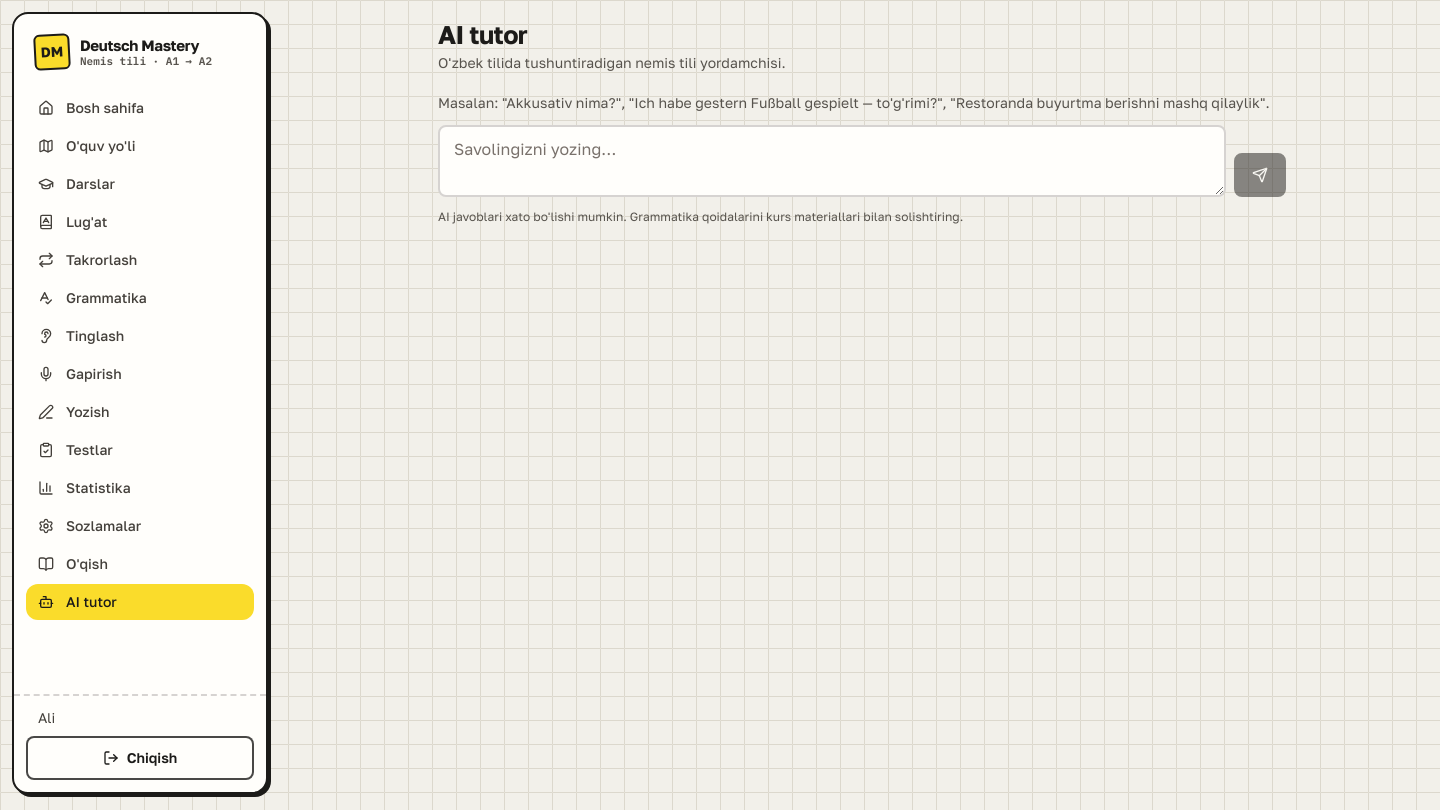
Scenario: AI tutor › renders replies as plain text, never as HTML
The width and height of the screenshot is (1440, 810).
Type "Akkusativ nima?" into the text box named "Xabar" at coordinates (832, 161), box [438,125,1226,197]
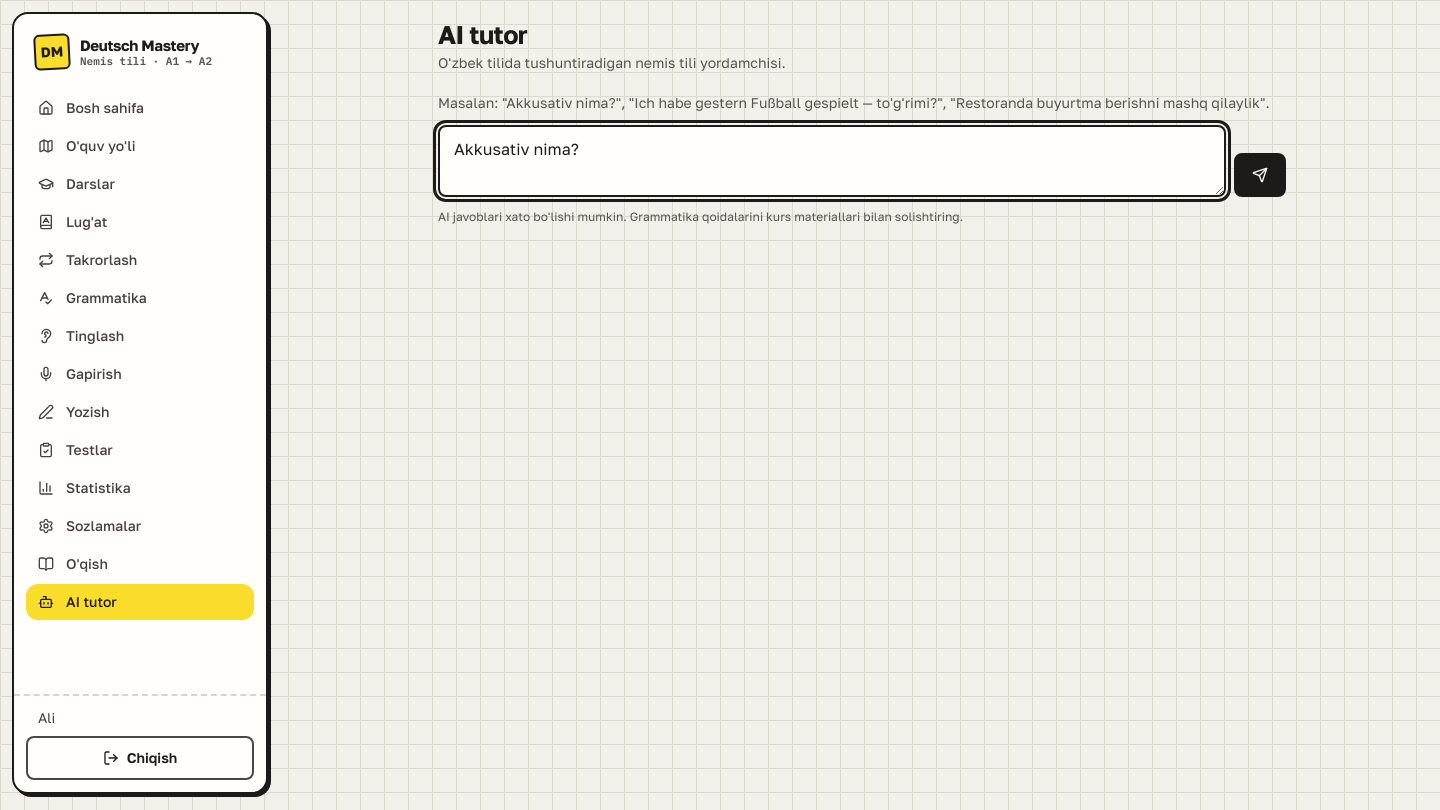
Click the button named "Yuborish" at coordinates (1260, 175), box [1234,153,1286,197]
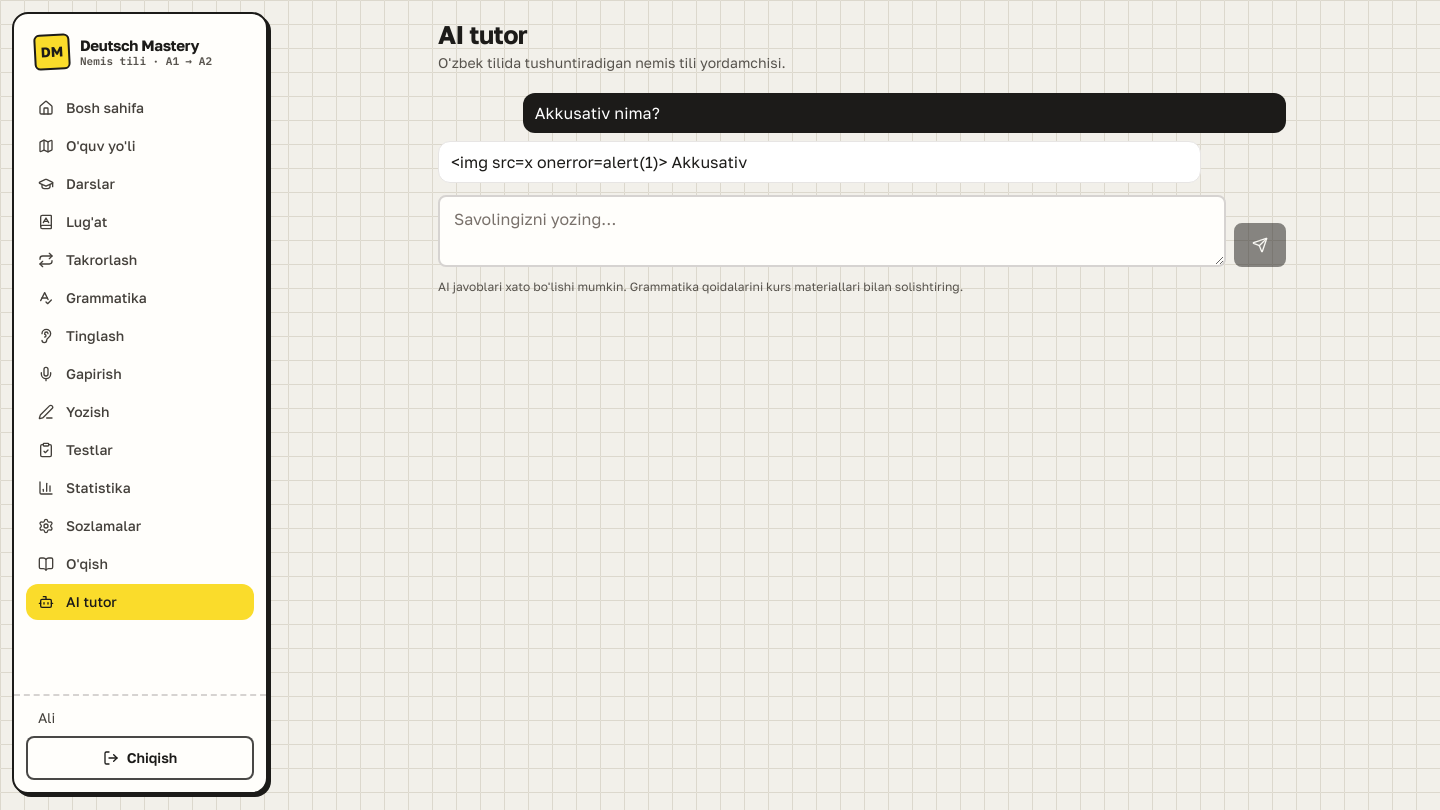
Expected: the list item "<img src=x onerror=alert(1)> Akkusativ" is shown, [438,141,1201,183]
